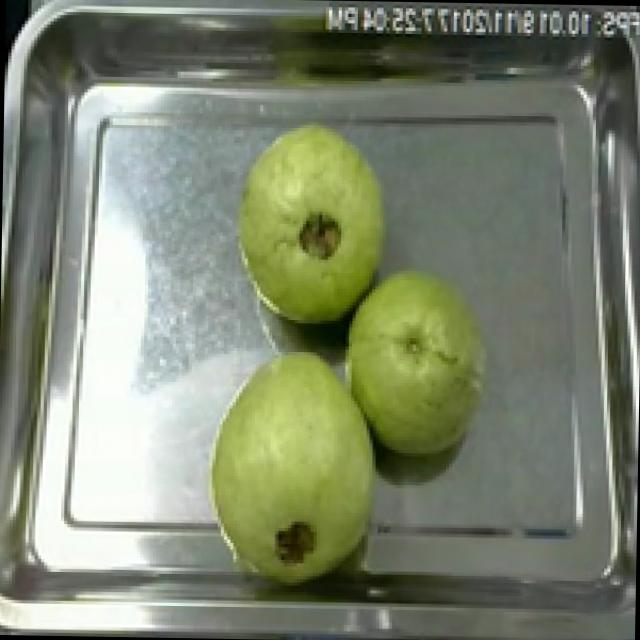Fruit: (193, 344, 400, 596), (224, 110, 398, 334), (331, 259, 504, 464)
